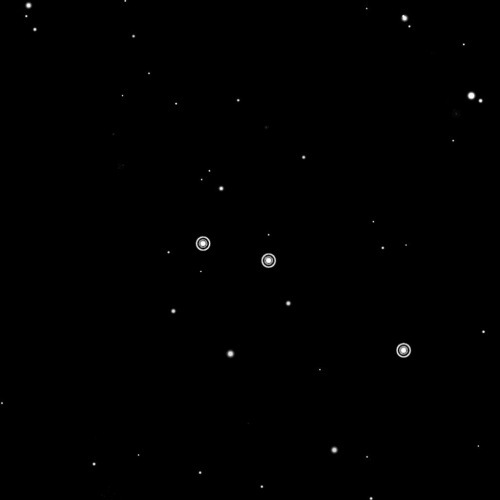vulpecula: (189, 229, 421, 366)
